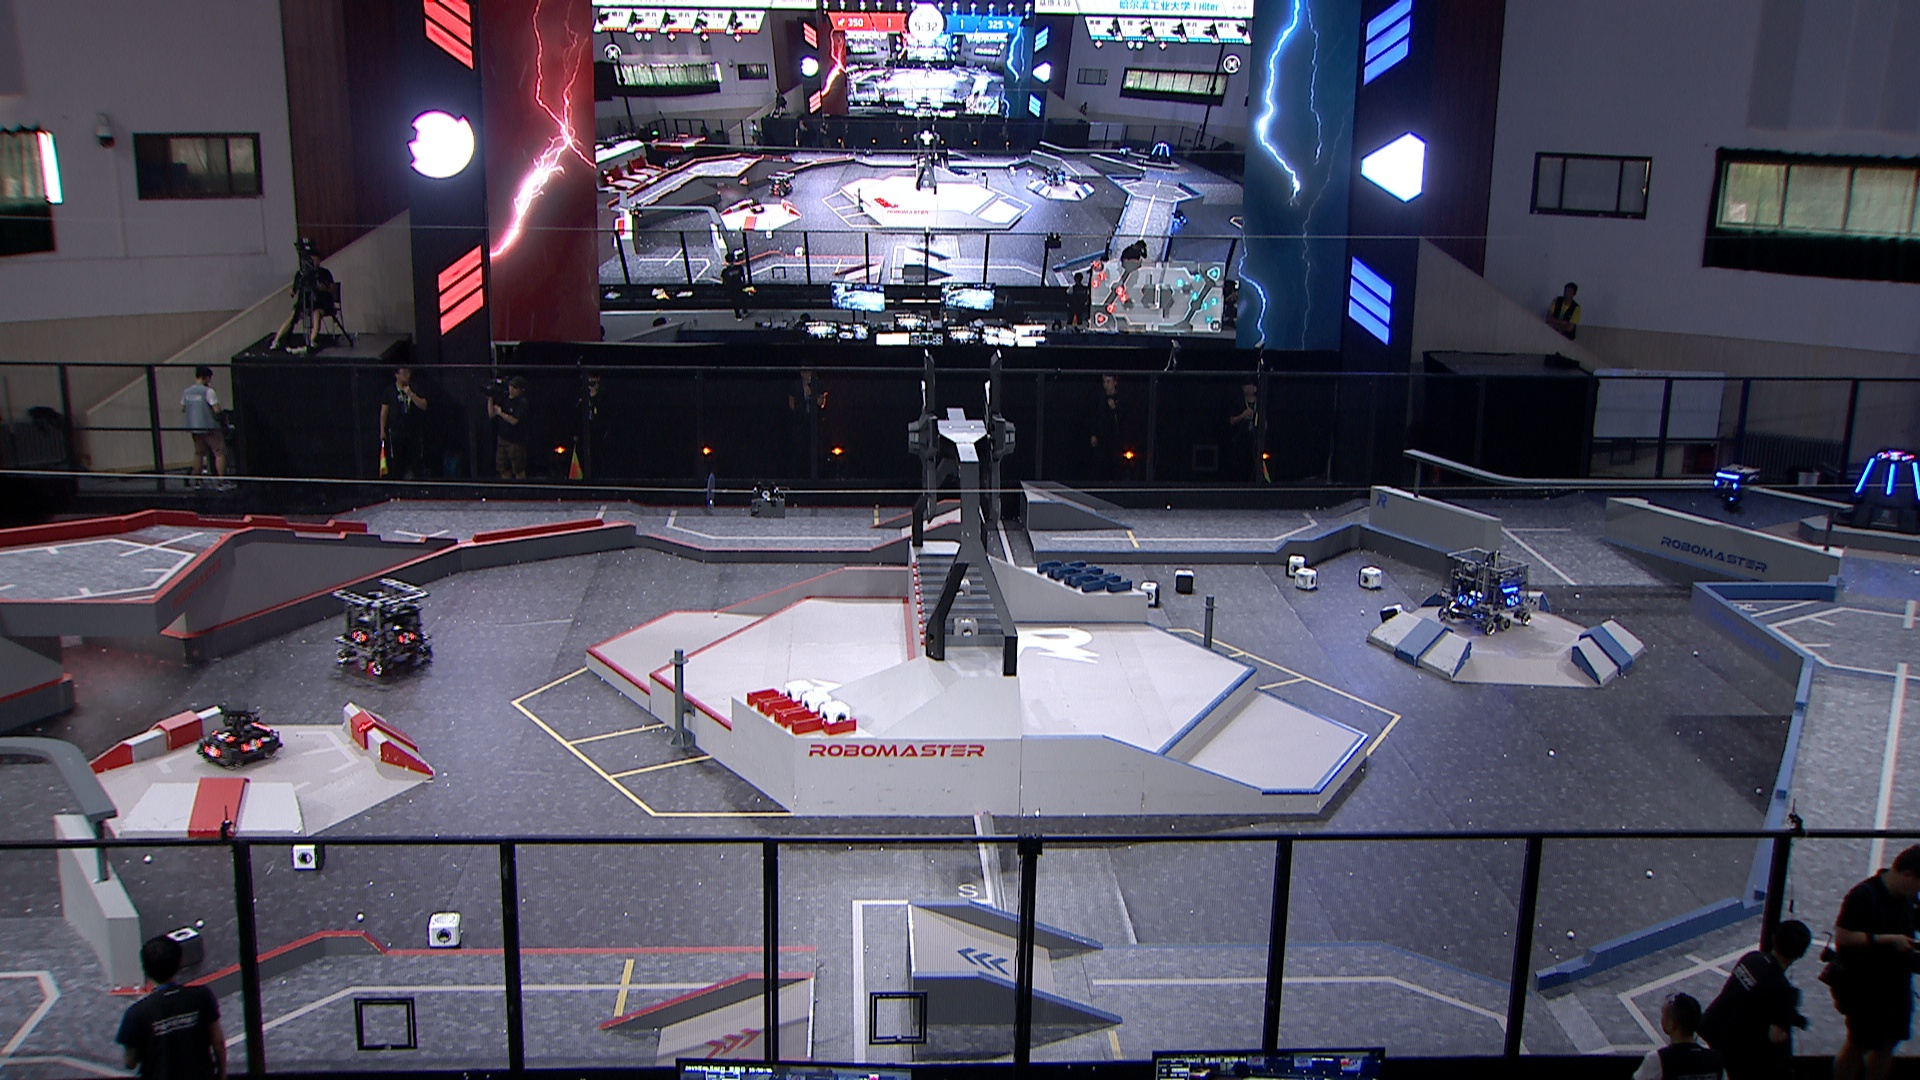armor: (1854, 458, 1878, 496), (1884, 462, 1898, 496), (240, 738, 262, 756), (211, 727, 233, 742), (1712, 479, 1737, 491), (396, 629, 414, 645), (1912, 463, 1920, 498), (349, 626, 365, 644), (1505, 593, 1523, 608), (202, 744, 220, 757), (1457, 593, 1472, 607)
base: (1826, 438, 1920, 535)
car: (327, 572, 430, 678), (1437, 546, 1531, 640), (193, 695, 284, 770)
ignore: (767, 167, 795, 196), (1145, 138, 1176, 164), (1874, 448, 1917, 465), (1040, 162, 1065, 186), (1168, 210, 1188, 232), (624, 200, 645, 219), (661, 157, 680, 174), (1114, 144, 1133, 161)
watcher: (1705, 456, 1756, 520)
